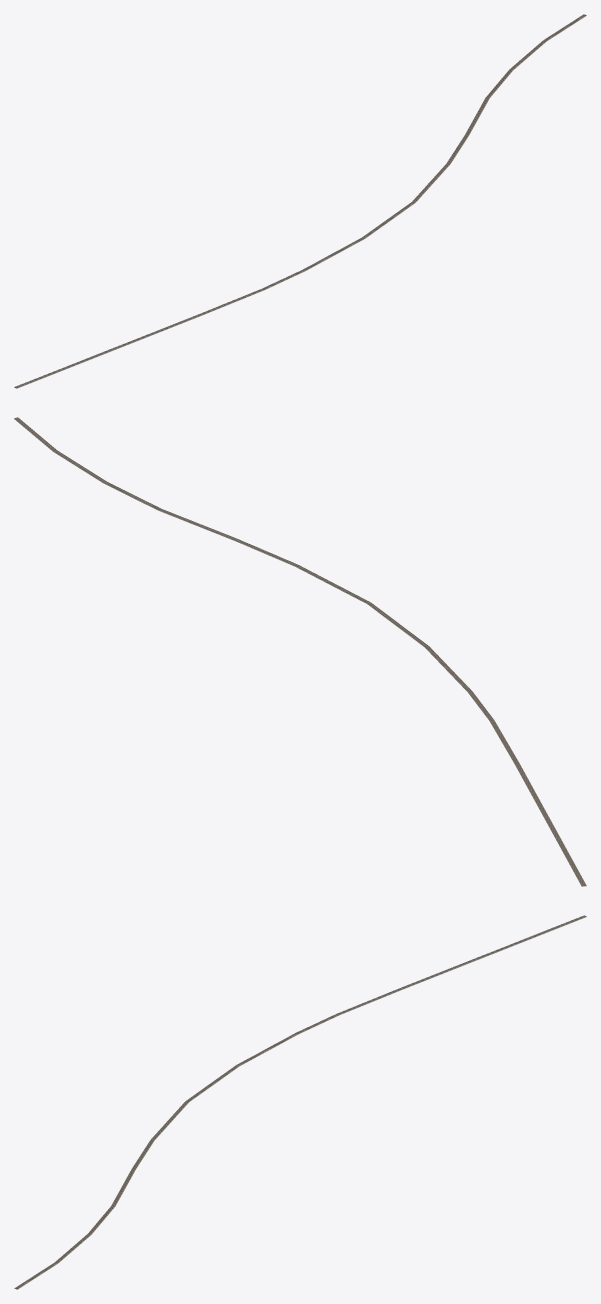
File: rail_01192.glb
3 renders of one model, top to bottom at view 1: azimuth 90°, elevation 25°; view 2: azimuth 150°, elevation 25°; view 3: azimuth 270°, elevation 25°, orthographic. The views are drawn at different scales.
Parts seen in each view (by area): view 1: Ballast, Sleepers, Rails; view 2: Sleepers, Ballast, Rails; view 3: Ballast, Sleepers, Rails.
Part boxes in pixels (x1,y1,x2,y2): Ballast: [14, 14, 586, 388]; Sleepers: [15, 14, 586, 388]; Rails: [15, 14, 585, 387]; Sleepers: [14, 417, 586, 886]; Ballast: [14, 417, 586, 886]; Rails: [15, 417, 585, 885]; Ballast: [14, 916, 586, 1289]; Sleepers: [14, 915, 586, 1288]; Rails: [15, 915, 585, 1288].
Size of the model in its own units: 588 by 0.48 by 381.
